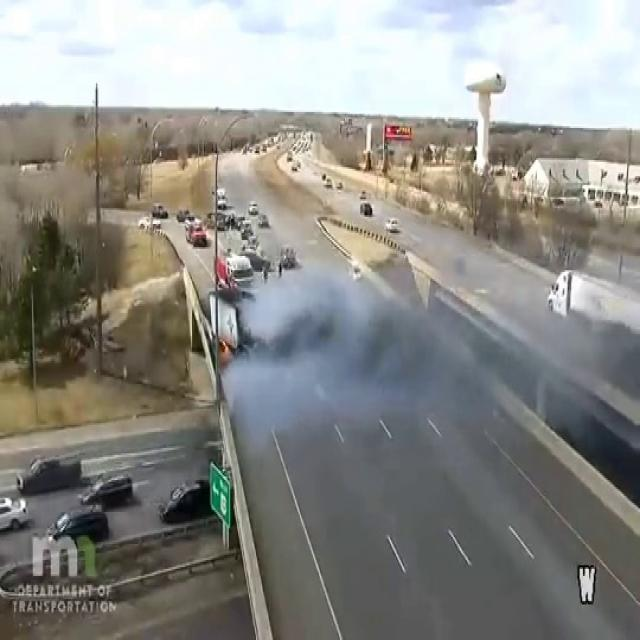Smoke: (236, 223, 451, 428)
